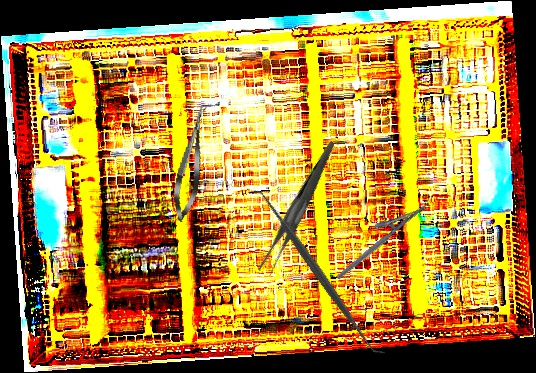Dressing Forceps: (228, 140, 370, 280)
Micro Scissor: (168, 103, 214, 224)
Needle Holder: (325, 192, 428, 281)
Spatula Surgical: (249, 181, 388, 364)
